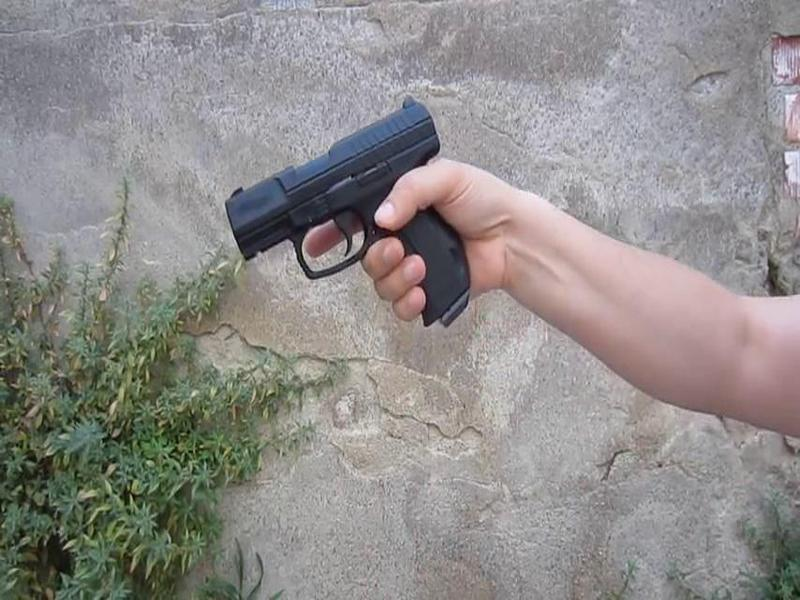Pistola: (212, 86, 546, 389)
